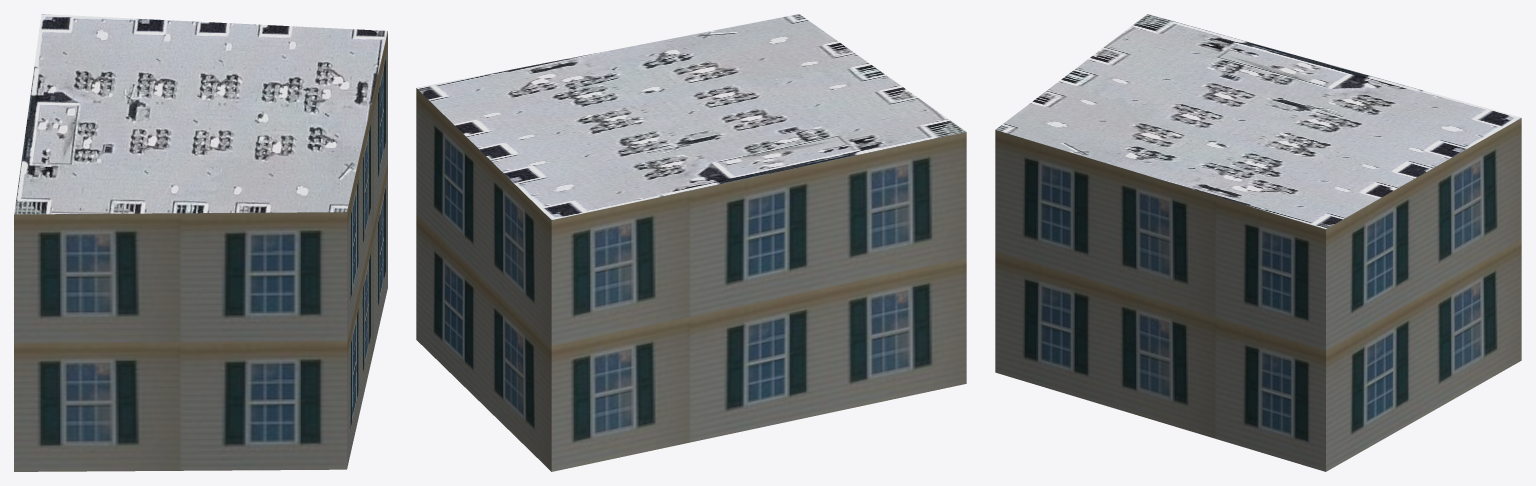
The model's file is ResTex__109.fbx.
3 renders of one model, left to right at view 1: azimuth 30°, elevation 25°; view 2: azimuth 150°, elevation 25°; view 3: azimuth 270°, elevation 25°, orthographic. The views are drawn at different scales.
Parts seen in each view (by area): view 1: CityEngineMaterial_7_m, CityEngineMaterial_m; view 2: CityEngineMaterial_7_m, CityEngineMaterial_m; view 3: CityEngineMaterial_7_m, CityEngineMaterial_m.
Part boxes in pixels (box(x1,y1,x2,y2)): CityEngineMaterial_7_m: box(14, 31, 387, 471); CityEngineMaterial_m: box(14, 14, 387, 214); CityEngineMaterial_7_m: box(416, 88, 966, 471); CityEngineMaterial_m: box(417, 14, 965, 219); CityEngineMaterial_7_m: box(995, 118, 1521, 471); CityEngineMaterial_m: box(995, 14, 1521, 229).
Bounding box in the file's own units: 11.42 × 6 × 11.8.
2 materials, 2 textured.
